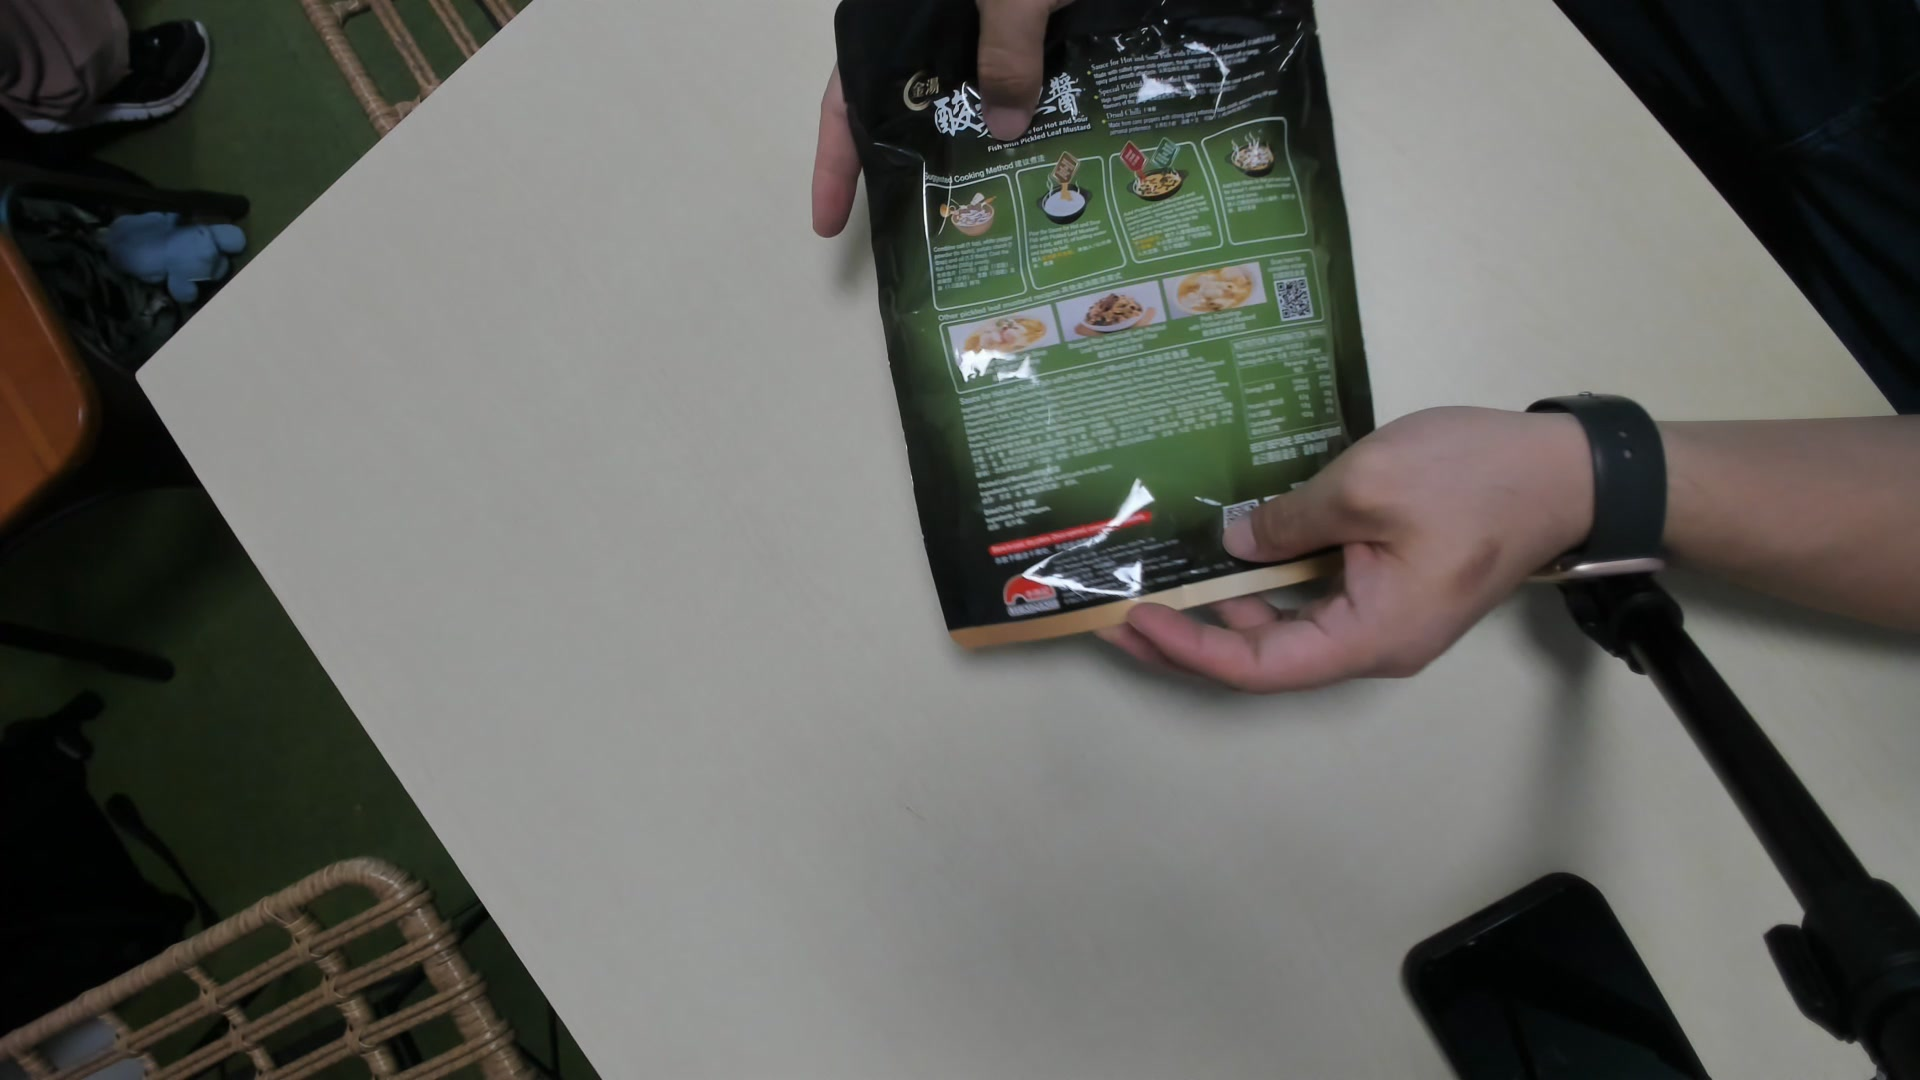OtherSauceDressing_200-299g_NonHalal_NonHealthy: (866, 7, 1379, 651)
